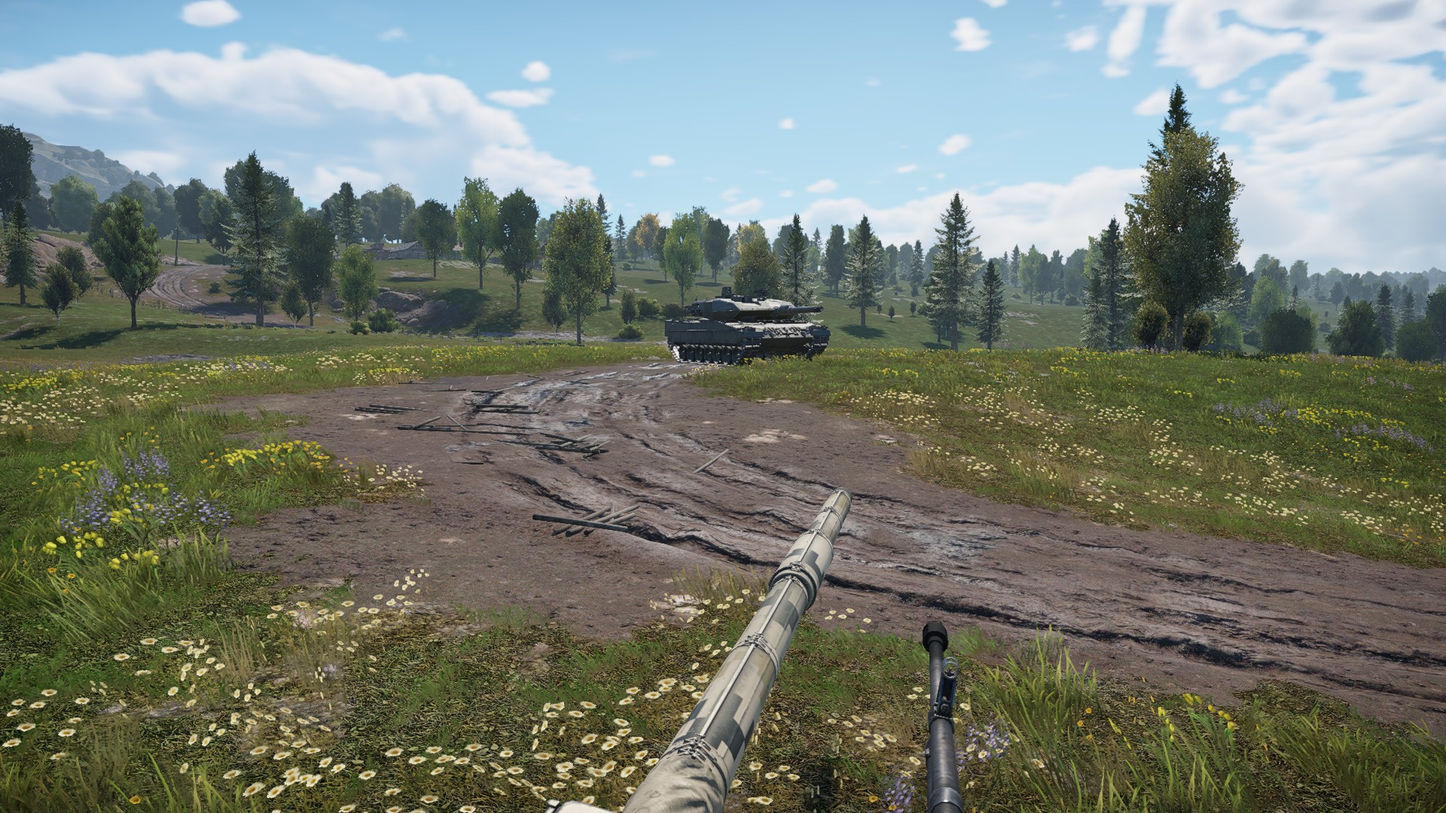leopard2: (664, 286, 831, 367)
